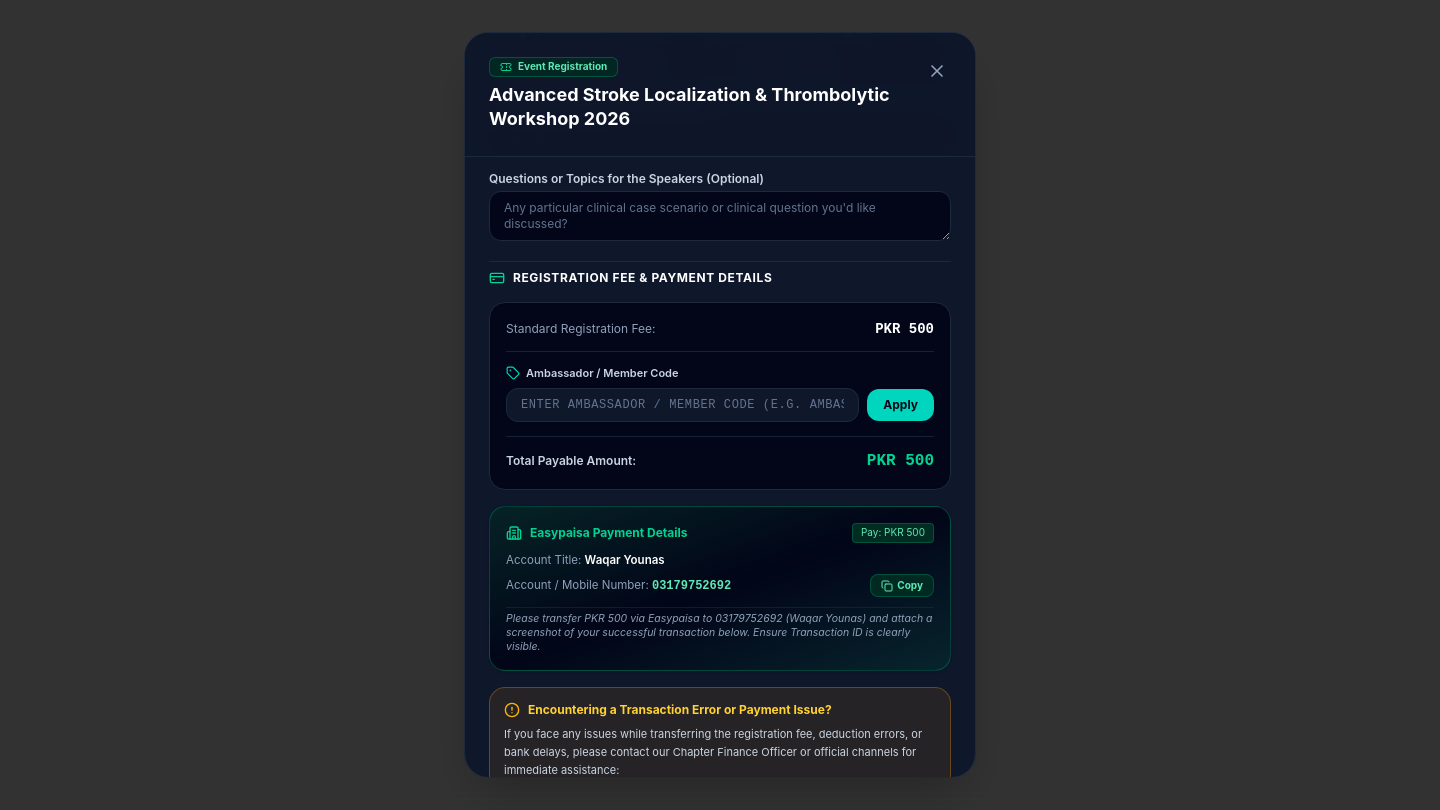
Test case: Event Registration System › validates and applies ambassador/member discount code correctly
The image size is (1440, 810).
(page scrolled)
# Try invalid code
In the field with placeholder "Enter Ambassador / Member Code (e.g. AMBASSADOR, SMC2026)": (683, 405) [506, 388, 859, 422], type "INVALID_CODE"
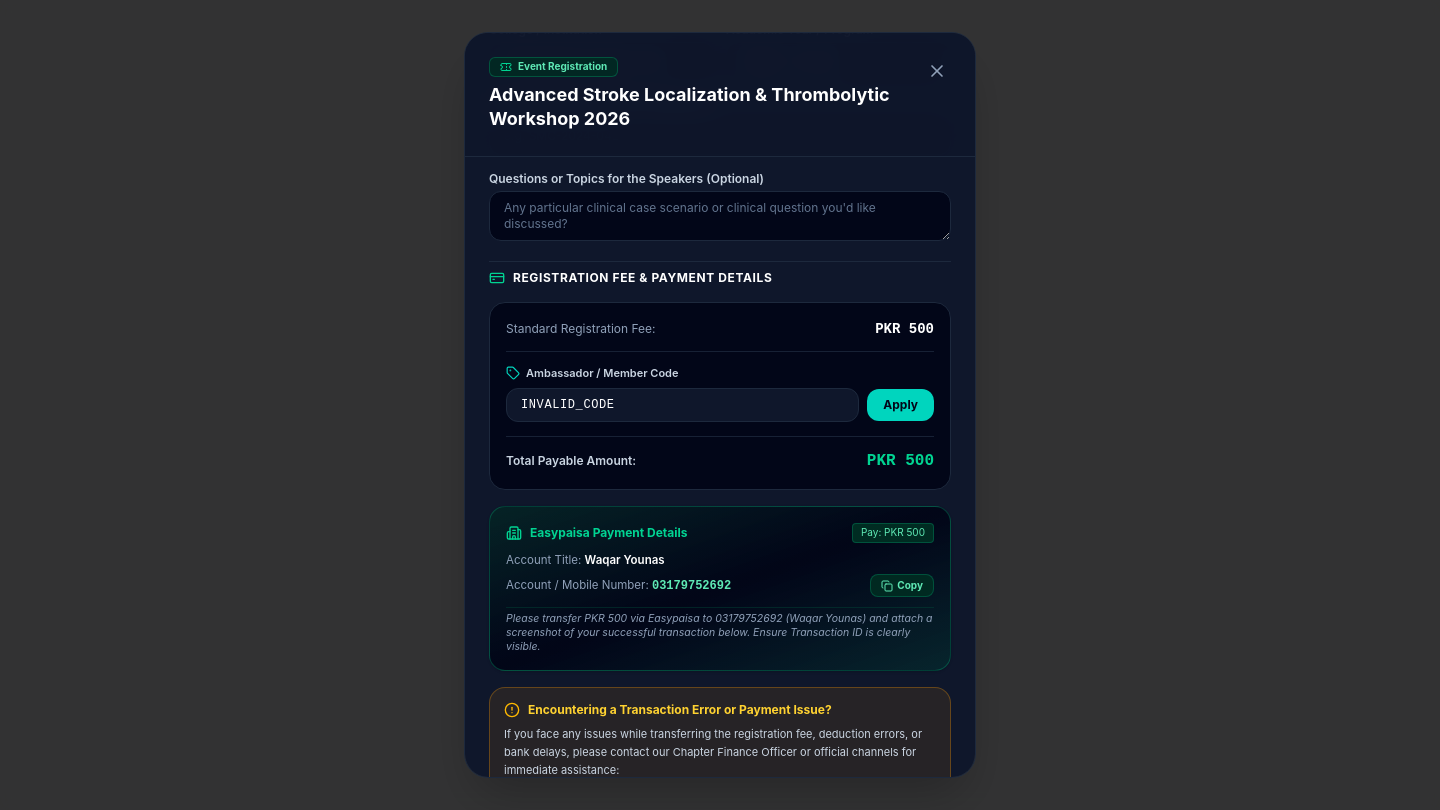
Click the button "Apply": (901, 405) [867, 389, 934, 421]
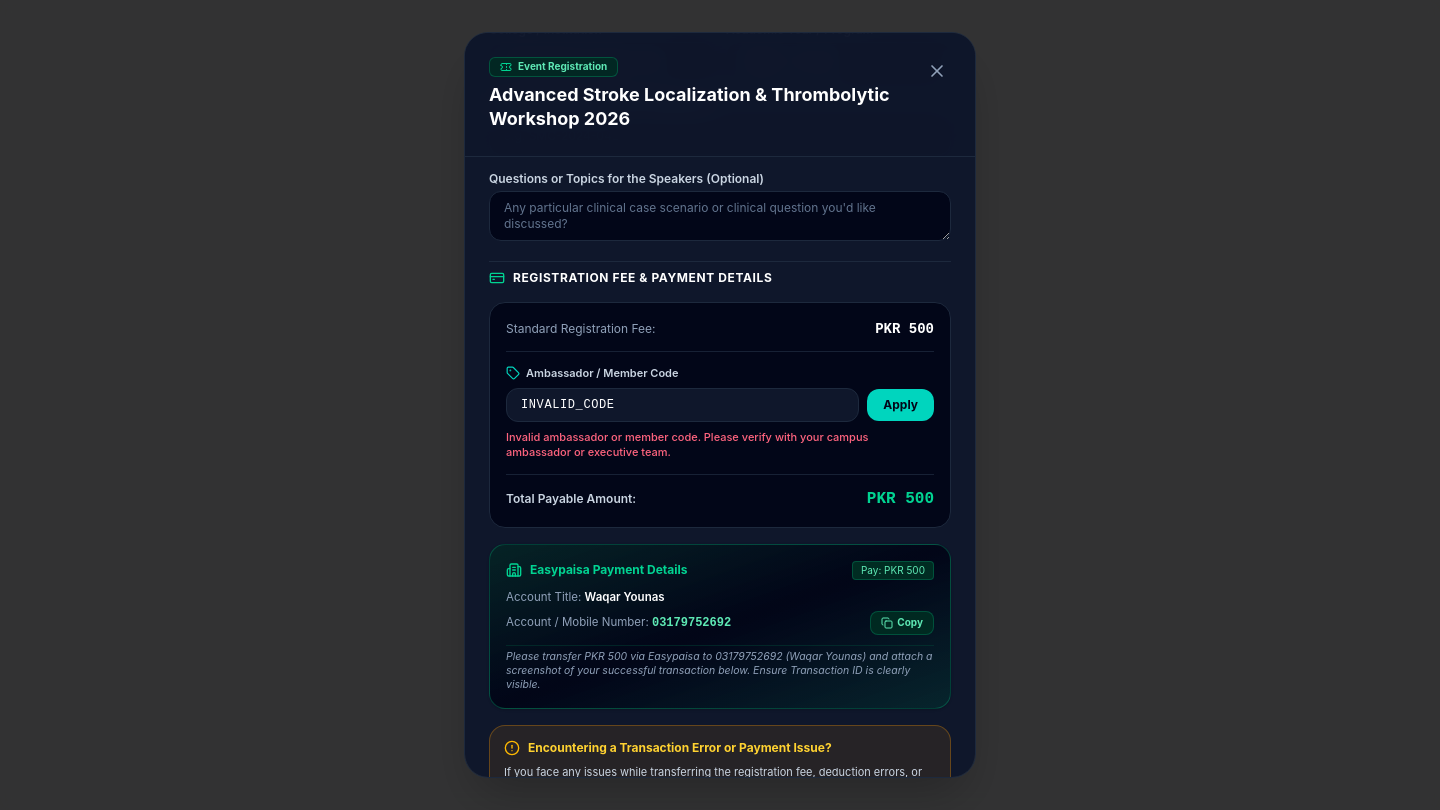
Now the text "Invalid ambassador or member code" is shown, box [506, 430, 868, 459]
# Enter valid ambassador code
Replace the text in the field with placeholder "Enter Ambassador / Member Code (e.g. AMBASSADOR, SMC2026)" with "AMBASSADOR": (683, 405) [506, 388, 859, 422]
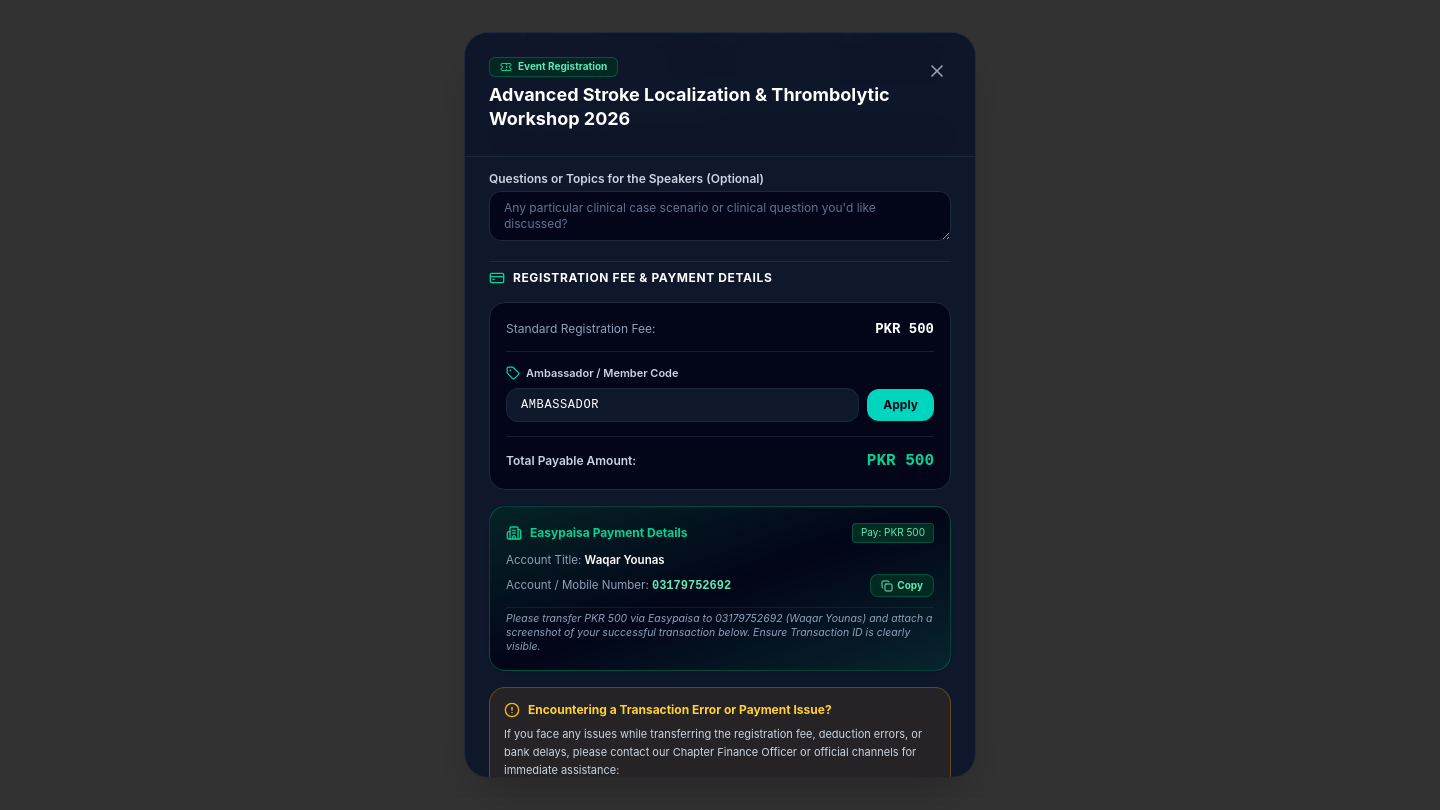
Click the button "Apply": (901, 405) [867, 389, 934, 421]
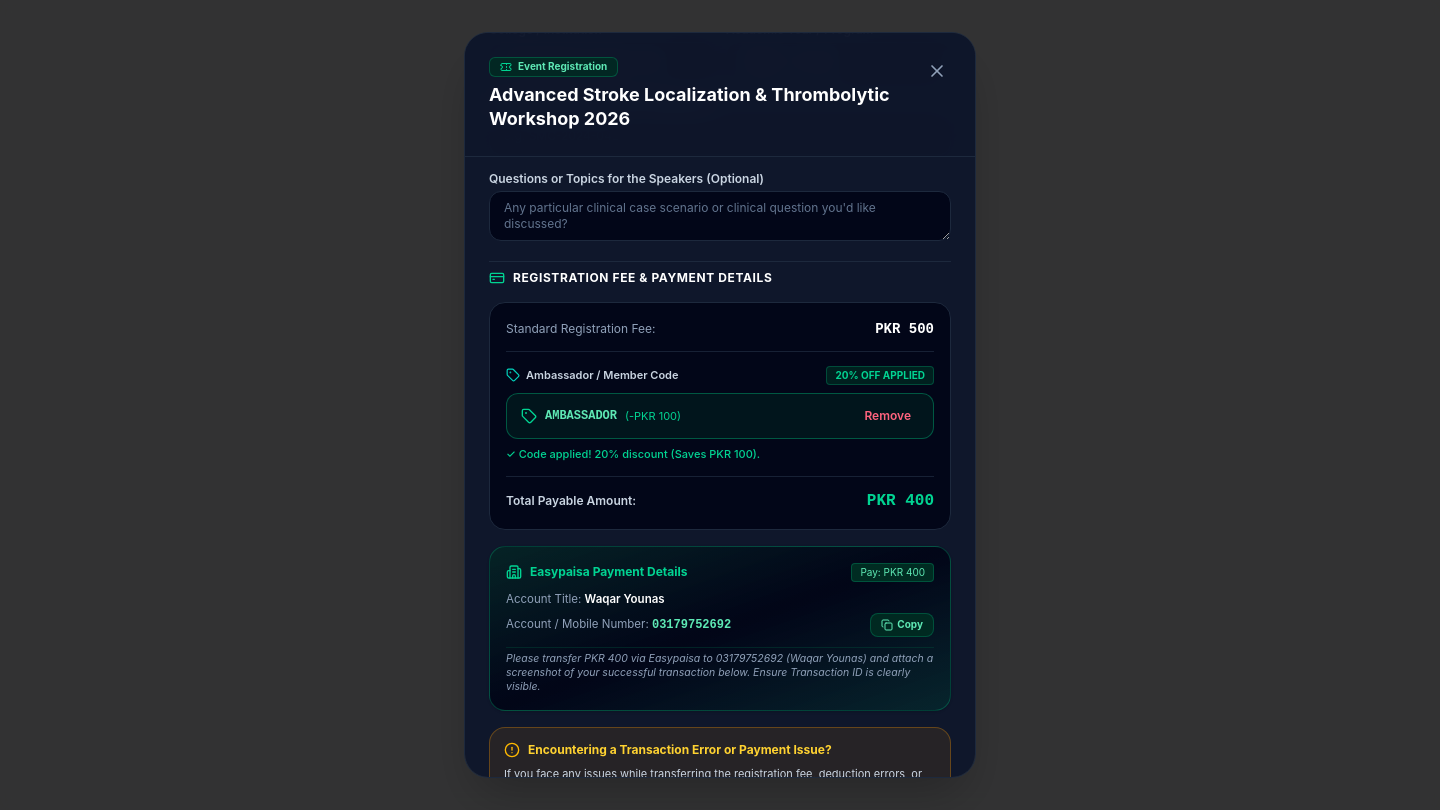
Now the text "✓ Code applied! 20% discount (Saves PKR 100)." is shown, box [506, 447, 760, 461]
Now the text "20% OFF APPLIED" is shown, box [826, 366, 934, 385]
Now the text "PKR 400" is shown, box [867, 492, 934, 510]
